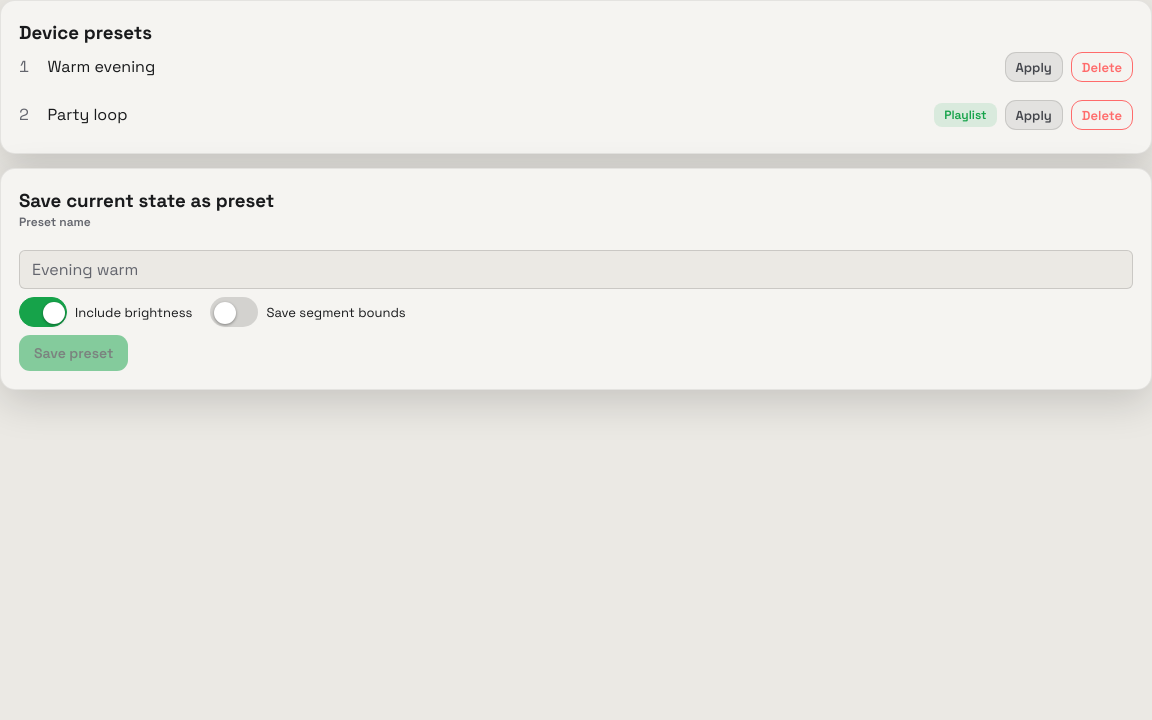
Test: DevicePresetsTab › applies a preset through the v2 fan-out with a { ps } patch
Step 1. Click the button with aria-label "Apply preset Warm evening" → (1034, 67), box top-left (1005, 52), bottom-right (1063, 82)
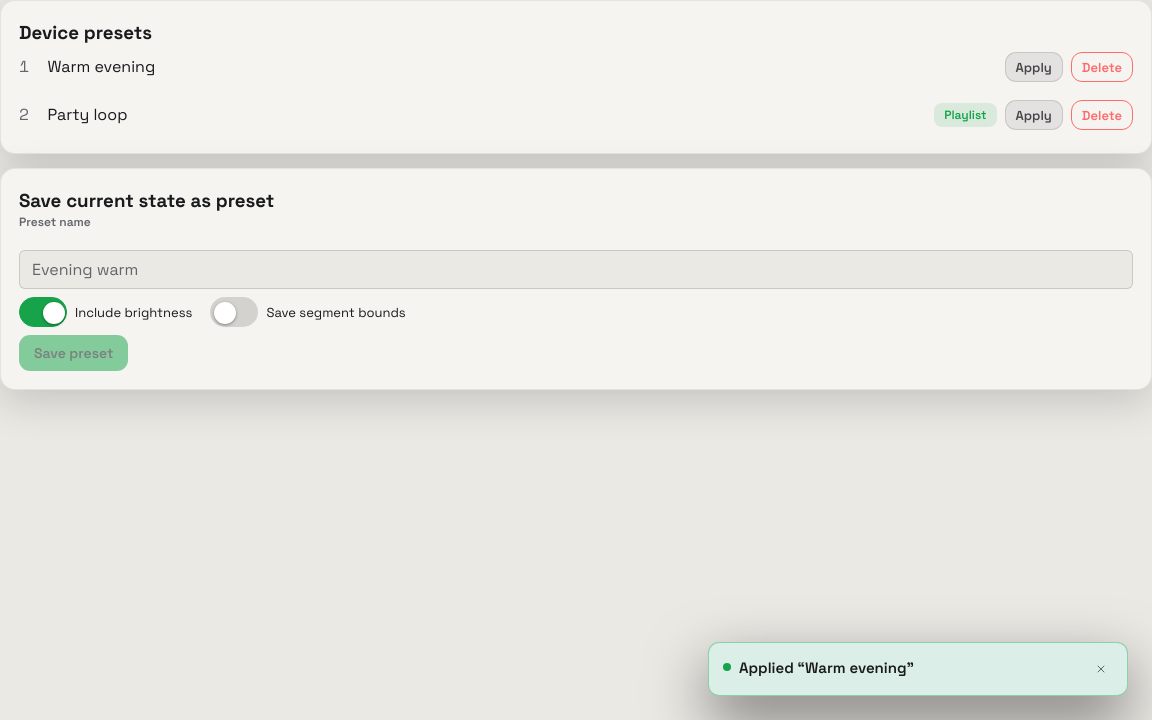
Now the text "Applied “Warm evening”" is shown, box top-left (739, 658), bottom-right (914, 677)
